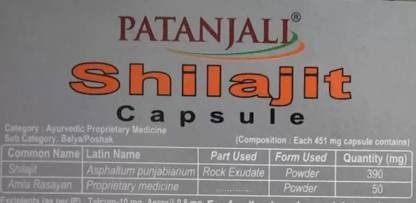Capsule: (116, 105, 304, 127)
PATANJALD,: (118, 12, 304, 58)
Shilajit: (68, 58, 352, 122)
